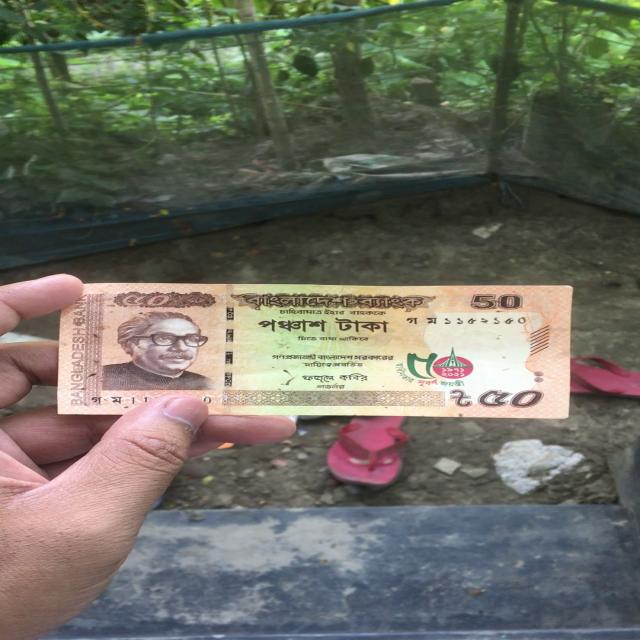Taka: (74, 269, 578, 416)
